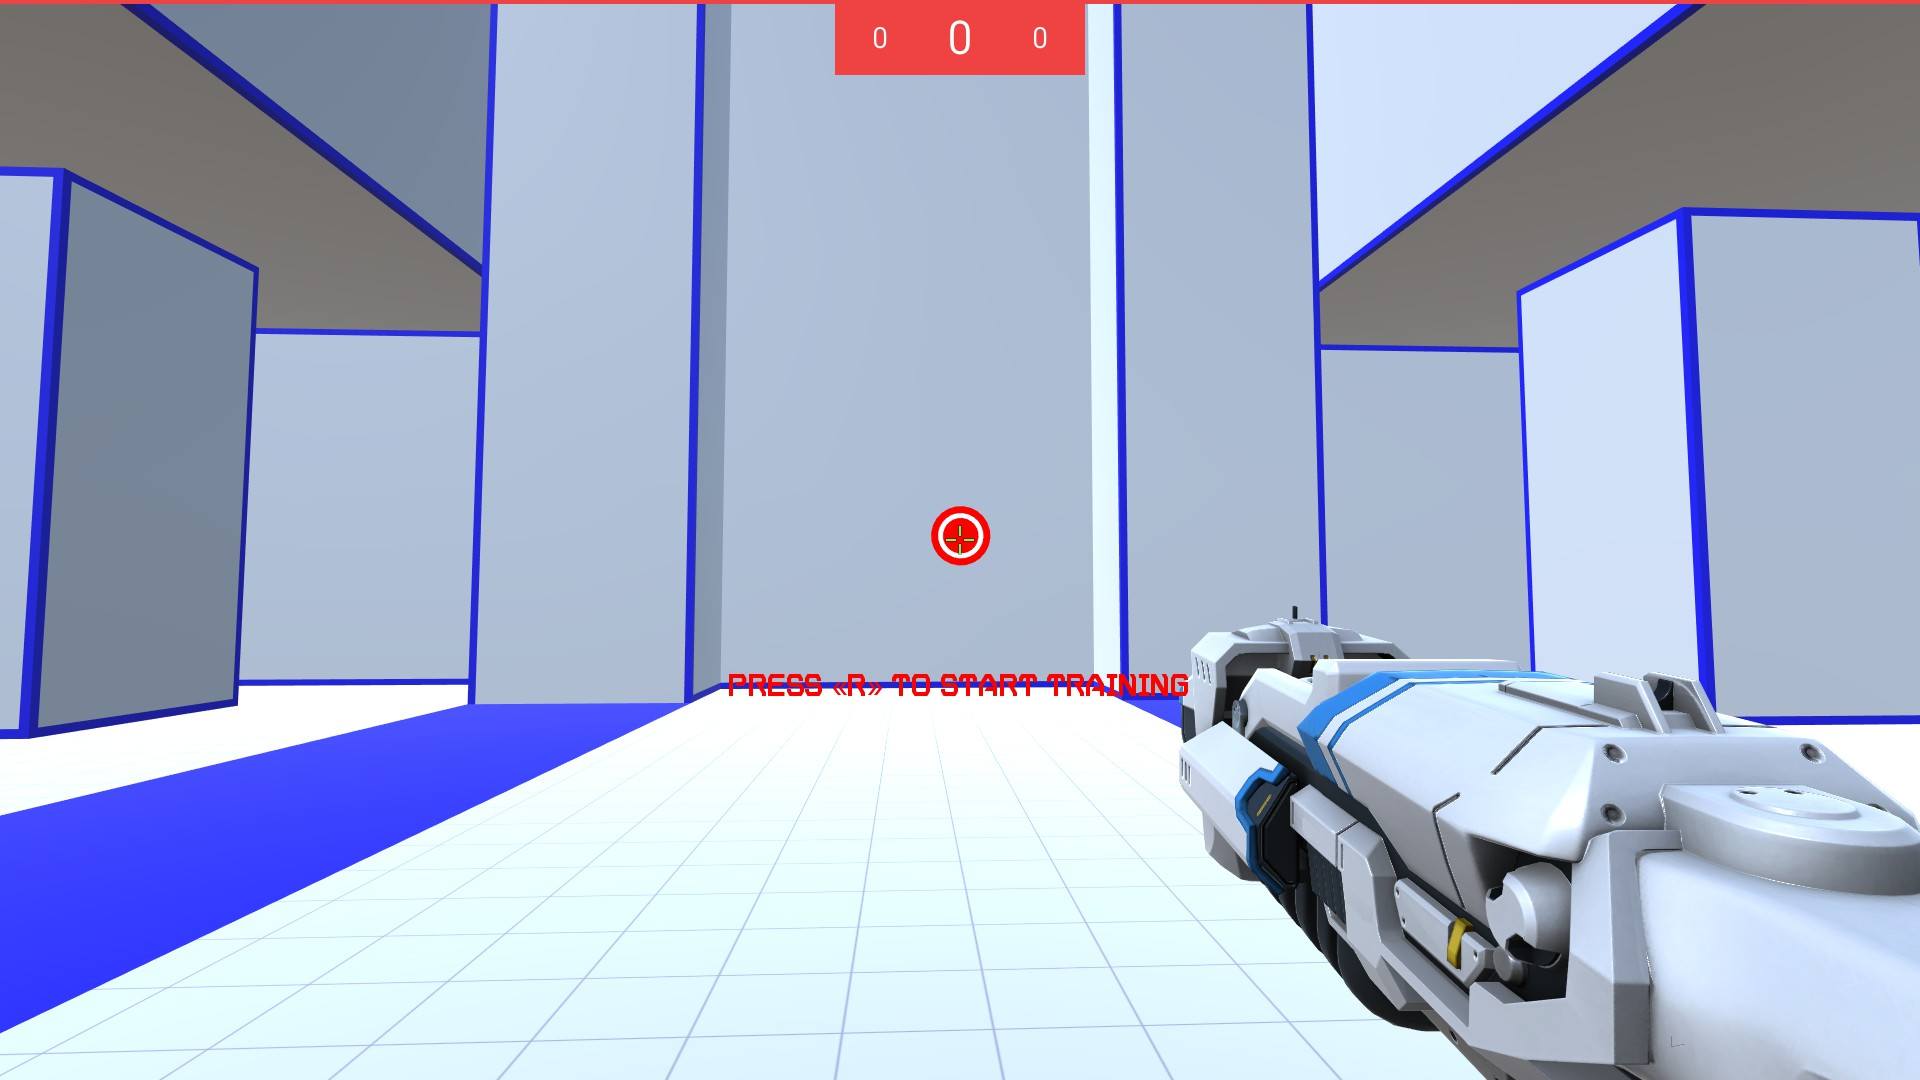target: (927, 504, 992, 566)
